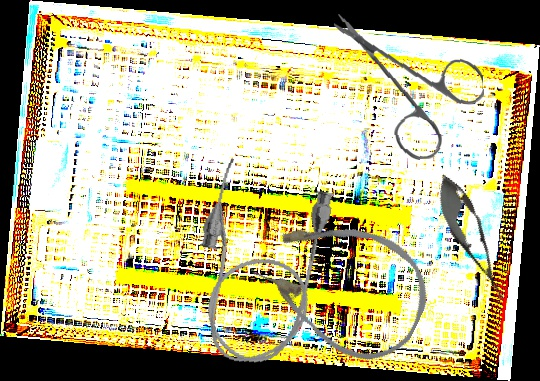Cannula: (238, 191, 446, 378), (179, 155, 338, 375)
Iris Scissors: (332, 4, 489, 165)
Micro Scissor: (426, 167, 518, 309)
